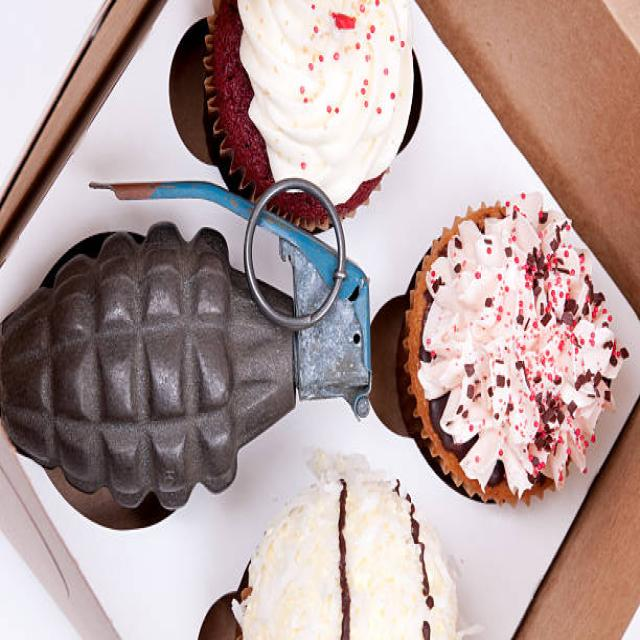grenade: (1, 164, 377, 527)
